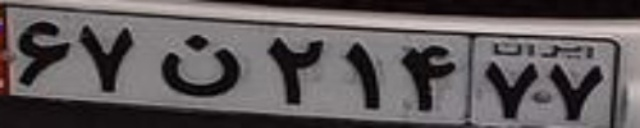1: (342, 38, 383, 109)
2: (263, 37, 331, 106)
4: (400, 44, 458, 112)
6: (9, 18, 71, 86)
7: (73, 19, 142, 93), (548, 60, 607, 120), (481, 60, 540, 119)
non: (157, 33, 241, 97)
